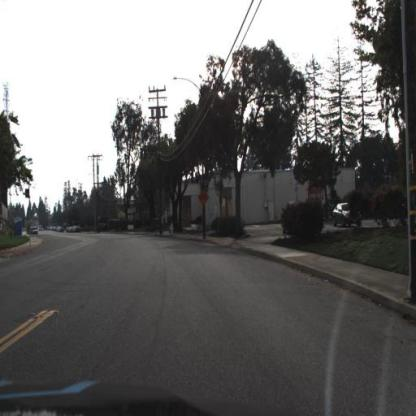car: (333, 201, 364, 230)
